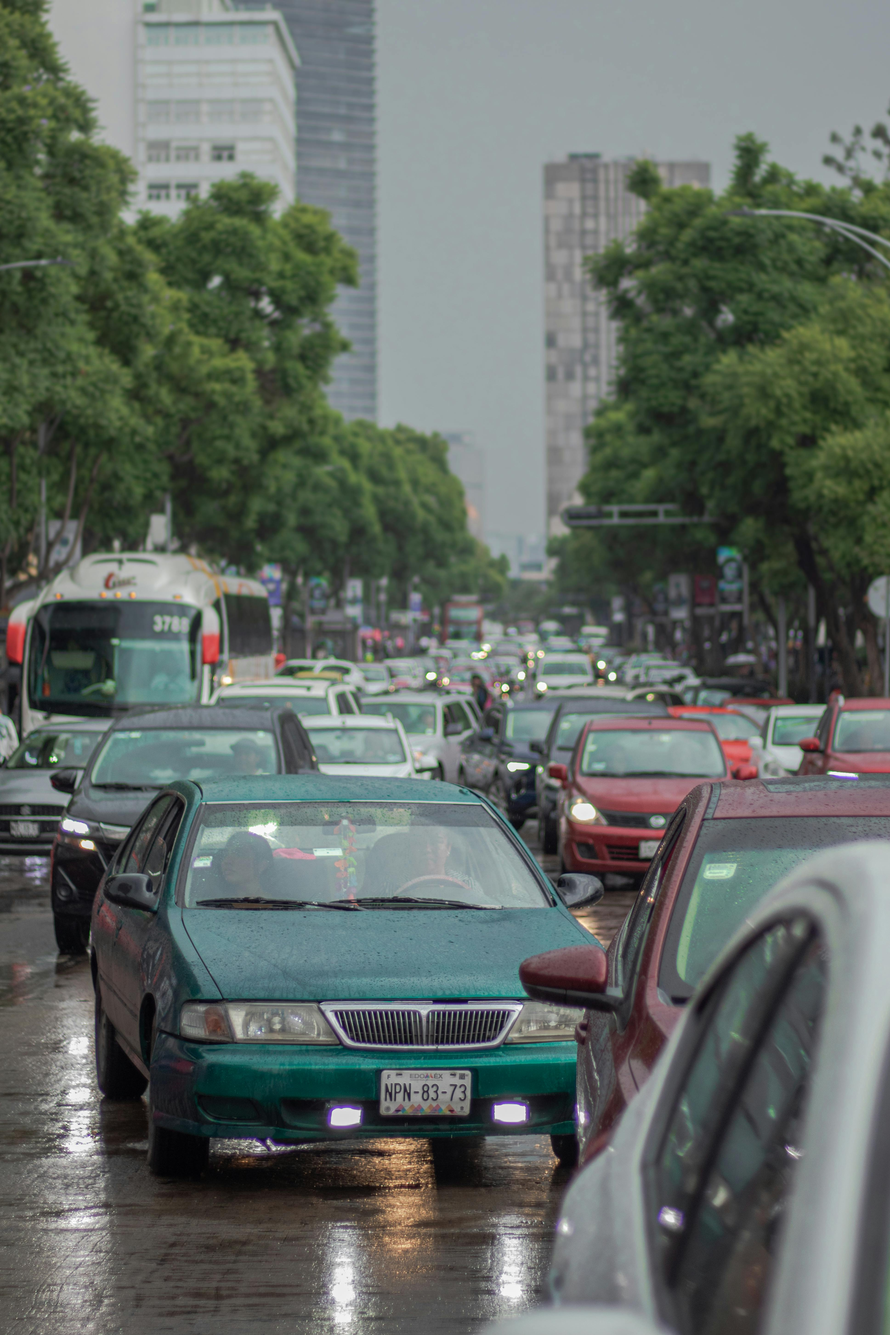other: (88, 771, 613, 1165), (56, 706, 330, 950), (564, 711, 736, 870), (448, 697, 578, 813), (312, 713, 407, 787), (816, 695, 890, 782)
